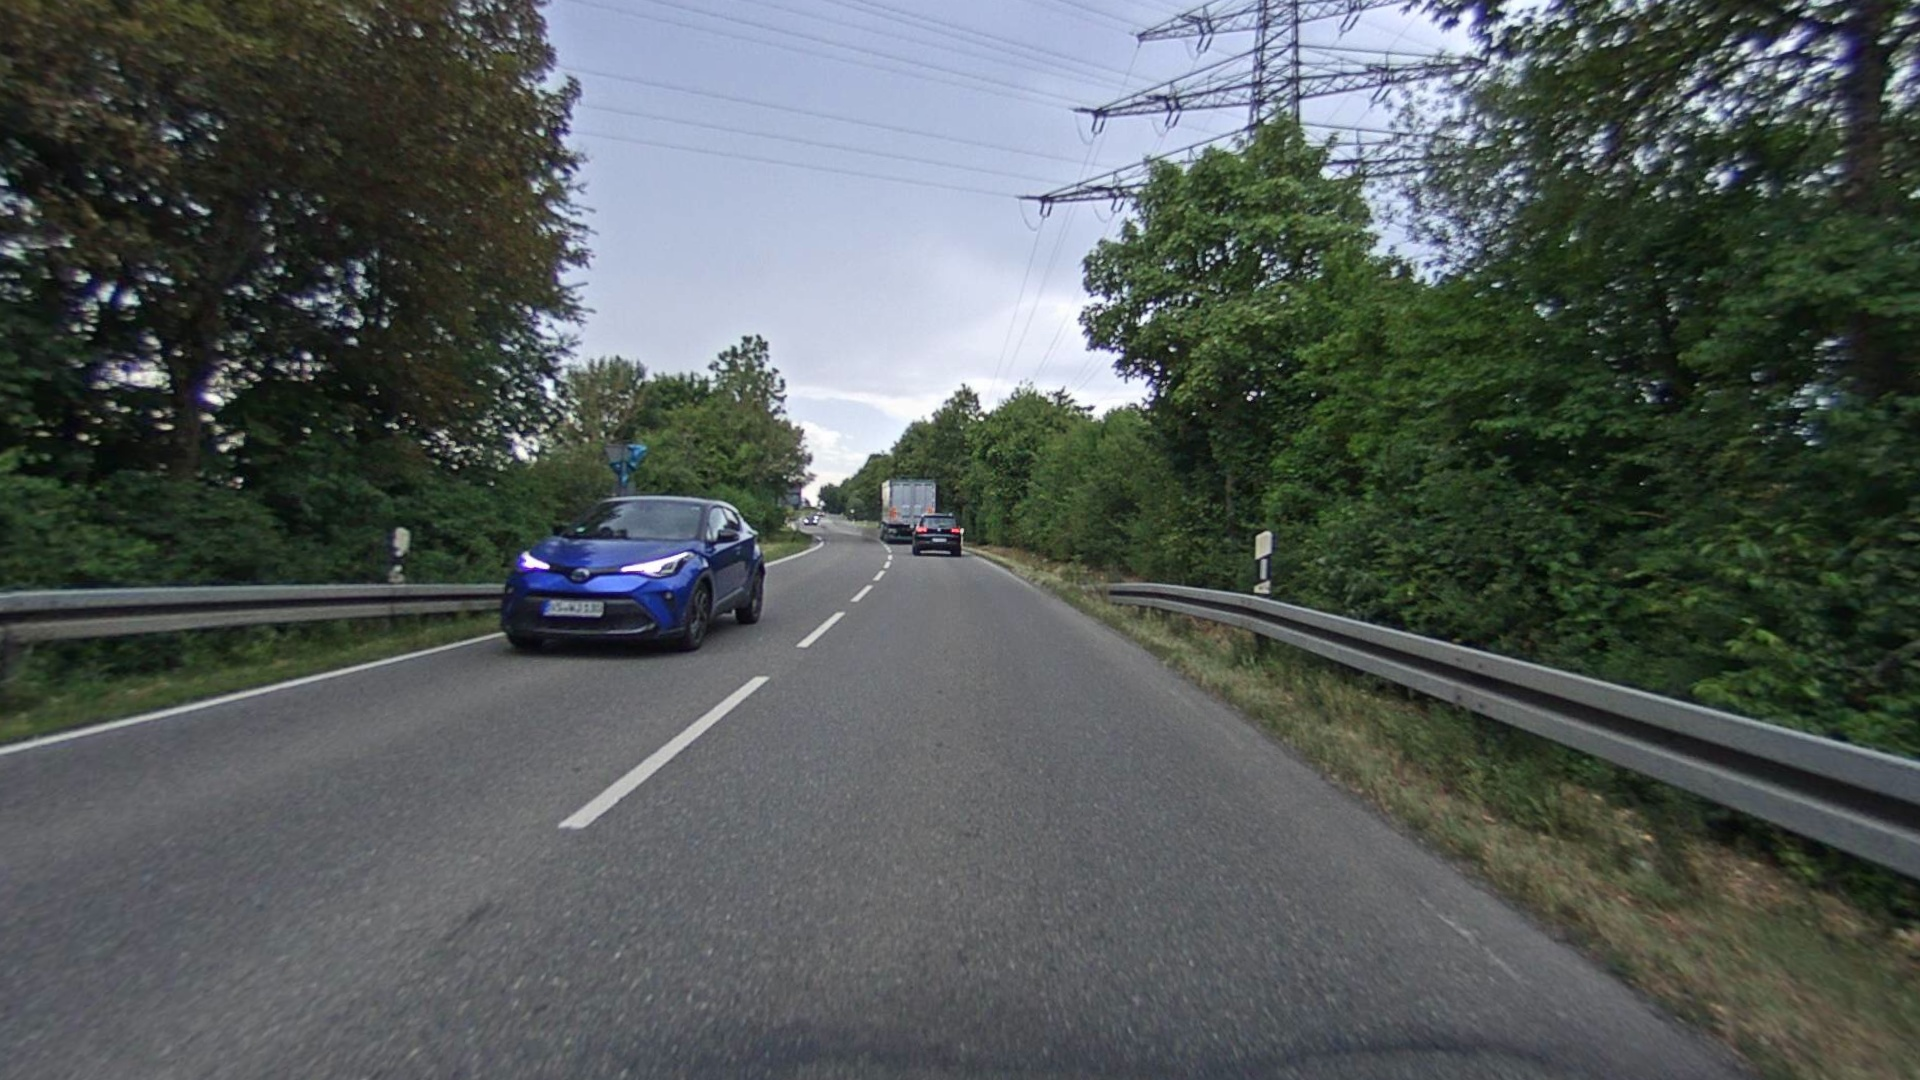car: (498, 492, 767, 659)
